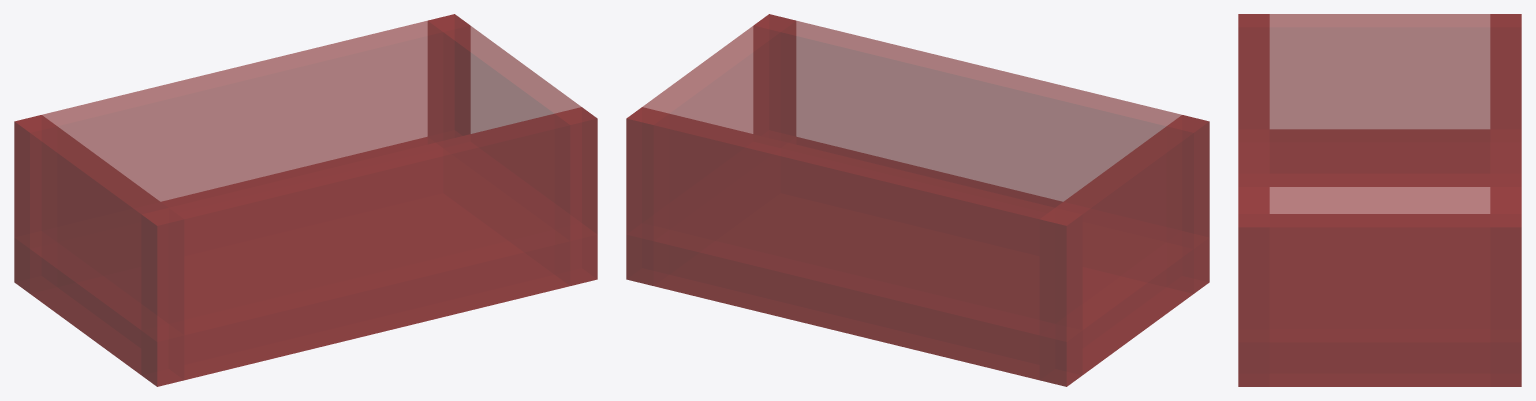
Rendered from SM_Prop_Scissor_Lift_01_Lift_Collision.fbx.
3 renders of one model, left to right at view 1: azimuth 30°, elevation 25°; view 2: azimuth 150°, elevation 25°; view 3: azimuth 270°, elevation 25°, orthographic.
Visible parts, largest first — view 1: SM_Prop_Scissor_Lift_01_Lift_Collision; view 2: SM_Prop_Scissor_Lift_01_Lift_Collision; view 3: SM_Prop_Scissor_Lift_01_Lift_Collision.
Boxes of the visible parts, x1,y1,x2,y2 form: SM_Prop_Scissor_Lift_01_Lift_Collision: (14,14,597,386); SM_Prop_Scissor_Lift_01_Lift_Collision: (626,14,1209,386); SM_Prop_Scissor_Lift_01_Lift_Collision: (1238,14,1521,386).
Bounding box in the file's own units: 325 × 114 × 182.
